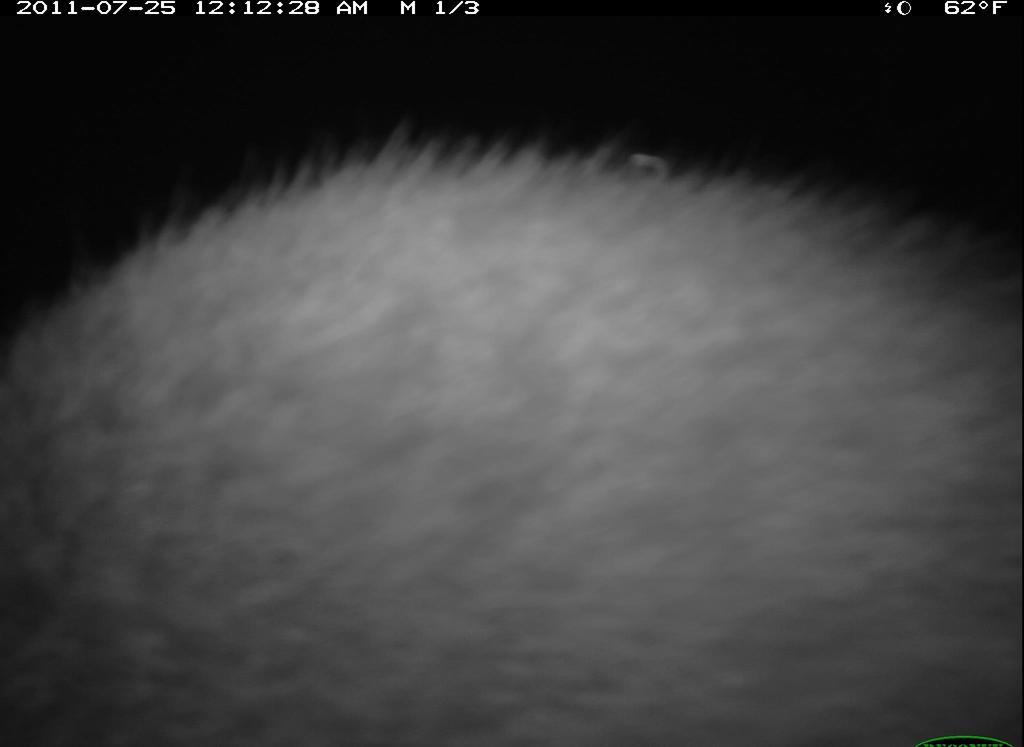raccoon: (11, 114, 1023, 735)
